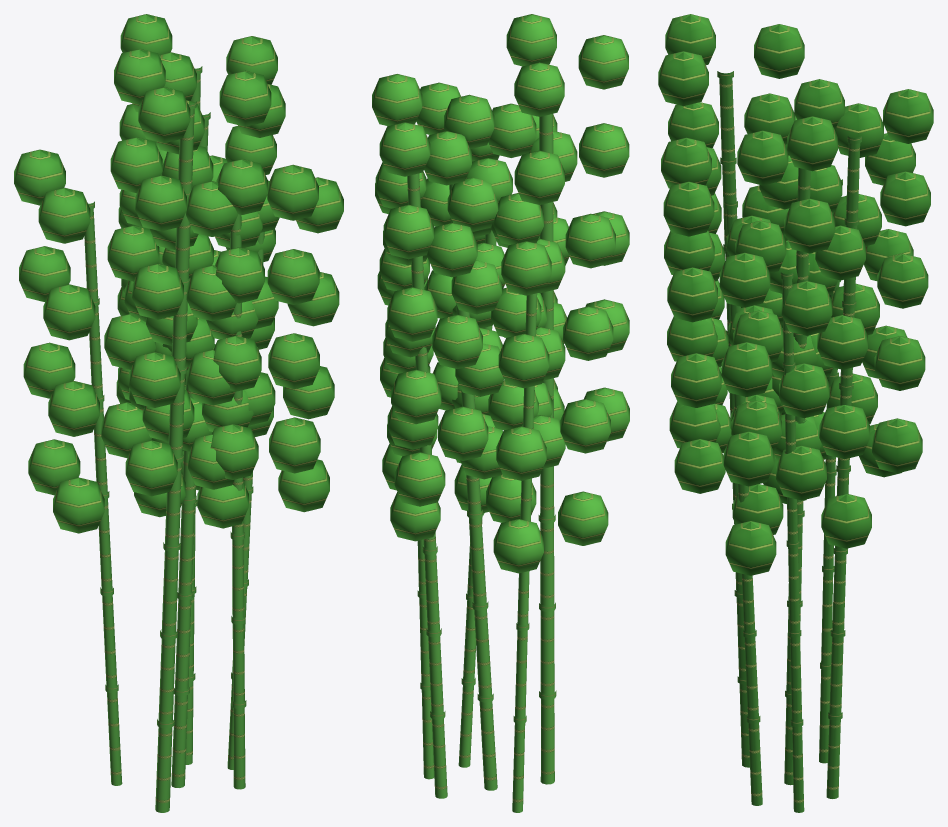
Rendered from bamboo_cluster.glb.
3 renders of one model, left to right at view 1: azimuth 30°, elevation 25°; view 2: azimuth 150°, elevation 25°; view 3: azimuth 270°, elevation 25°, orthographic. The views are drawn at different scales.
Visible parts, largest first — view 1: ModelRoot; view 2: ModelRoot; view 3: ModelRoot.
Part boxes in pixels (left/top/right/bottom): ModelRoot: left=14, top=14, right=343, bottom=812; ModelRoot: left=372, top=14, right=629, bottom=812; ModelRoot: left=658, top=14, right=933, bottom=812.
Bounding box in the file's own units: 3.74 × 9.7 × 3.29.
Materials: 2 (2 with a texture image).
